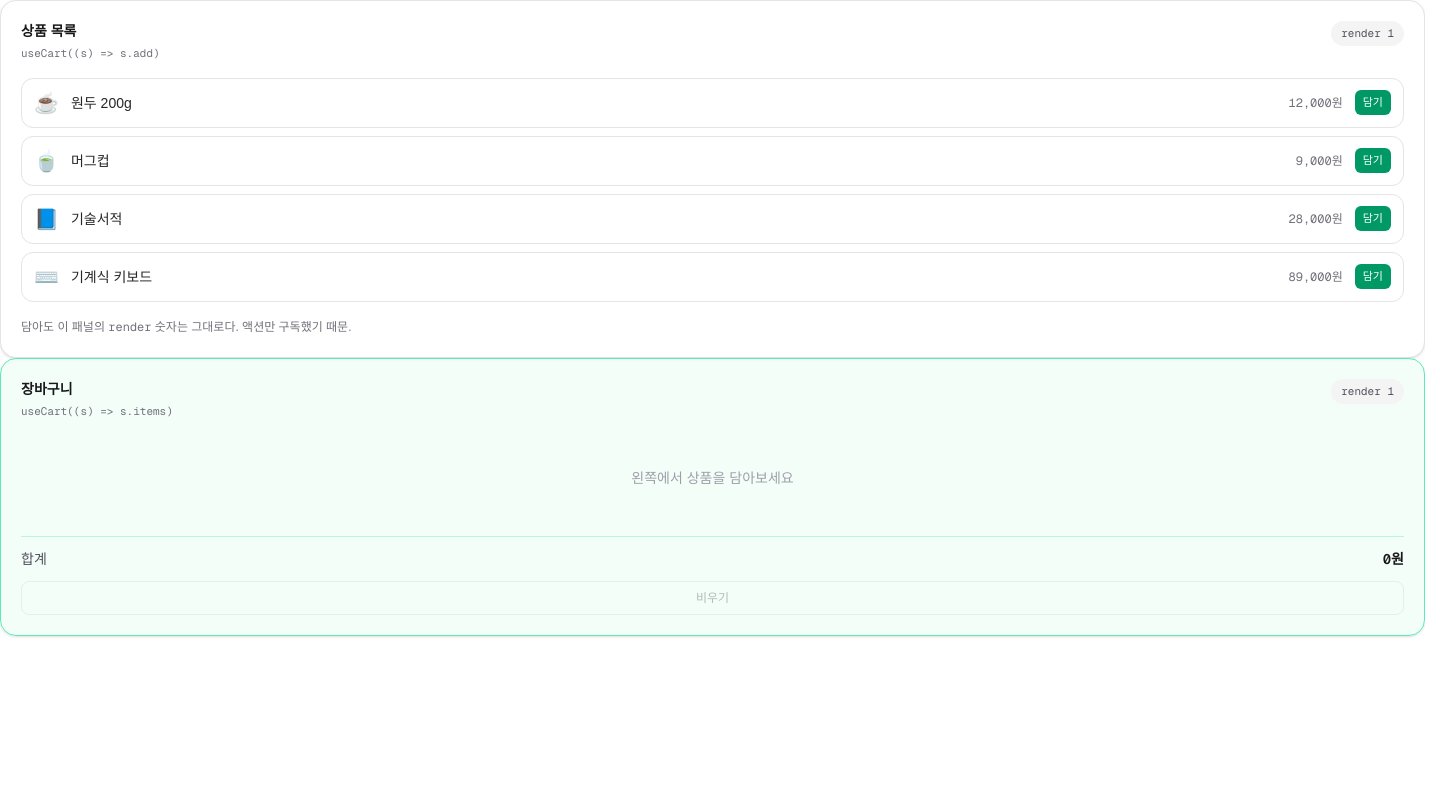
Test: 상품을 담으면 장바구니에 나타난다
This screenshot has width=1440, height=810.
Check: the text "왼쪽에서 상품을 담아보세요" is shown, box [631, 470, 794, 486]
# 사용자가 보는 방식으로 버튼을 찾는다 (클래스명이 아니라 눈에 보이는 글자로)
Click the button "☕ 원두 200g 12,000원 담기".
click(101, 102)  # box [21, 78, 1404, 128]
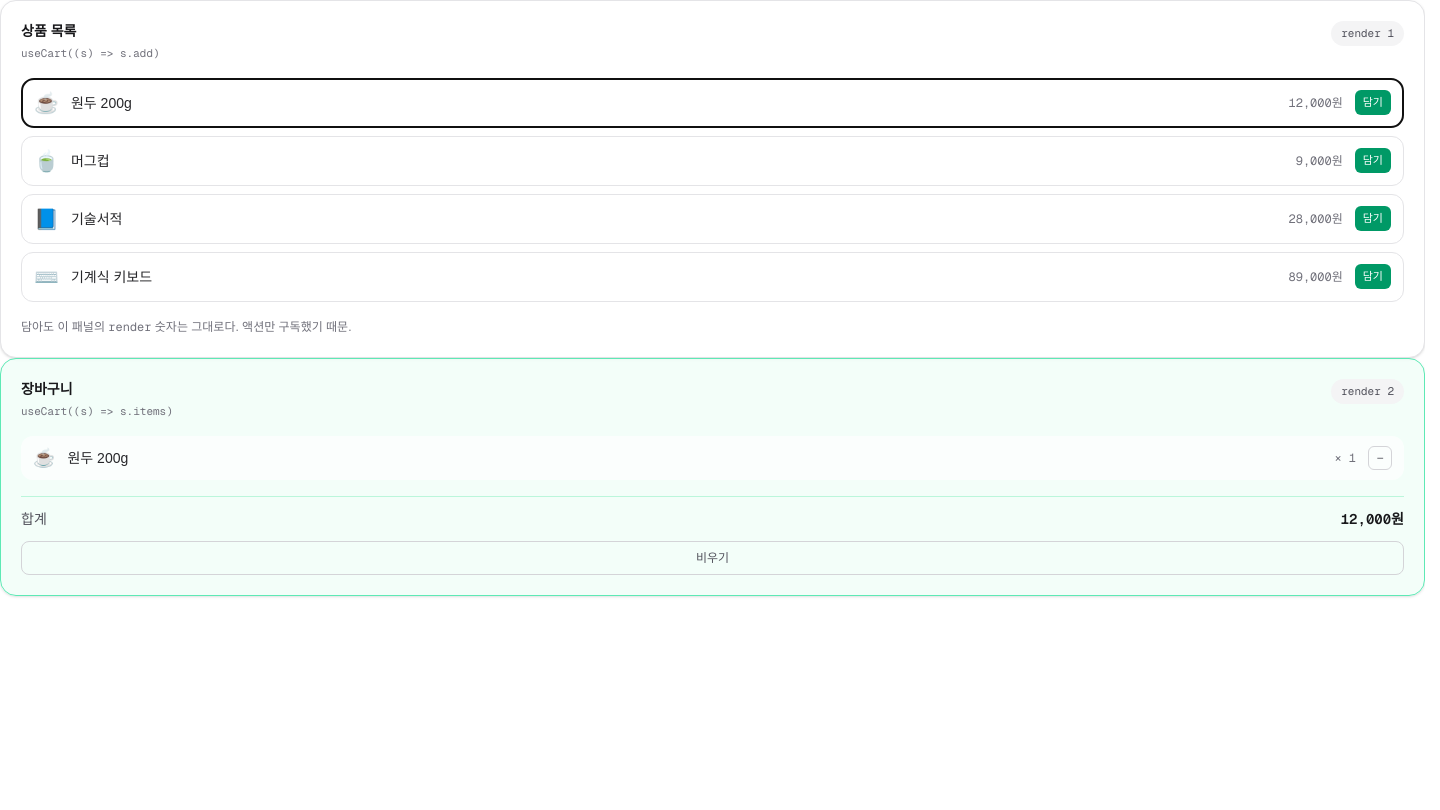
Check: the text "× 1" is shown, box [1334, 450, 1356, 466]
Check: the text "왼쪽에서 상품을 담아보세요" is gone
